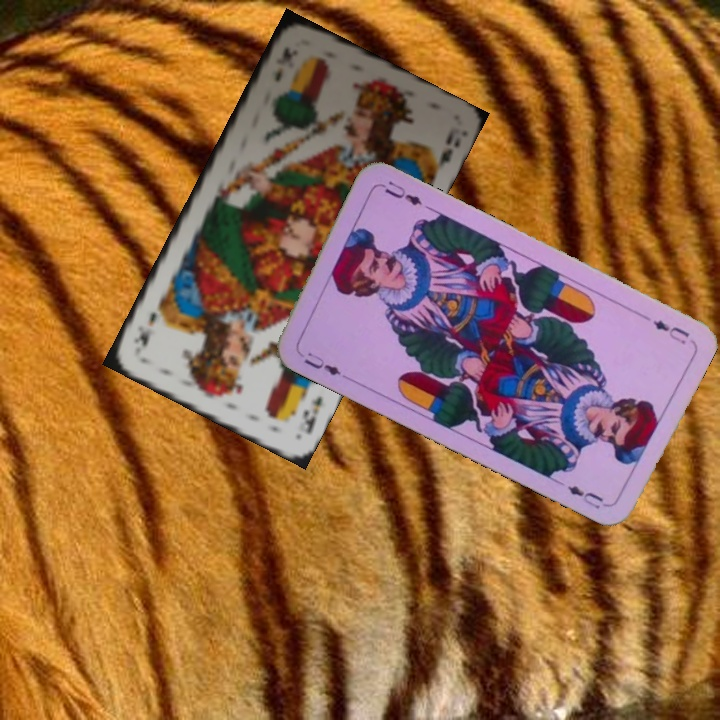EK: (298, 392, 326, 438), (270, 43, 294, 85)
EU: (648, 315, 692, 347), (300, 348, 344, 378)
